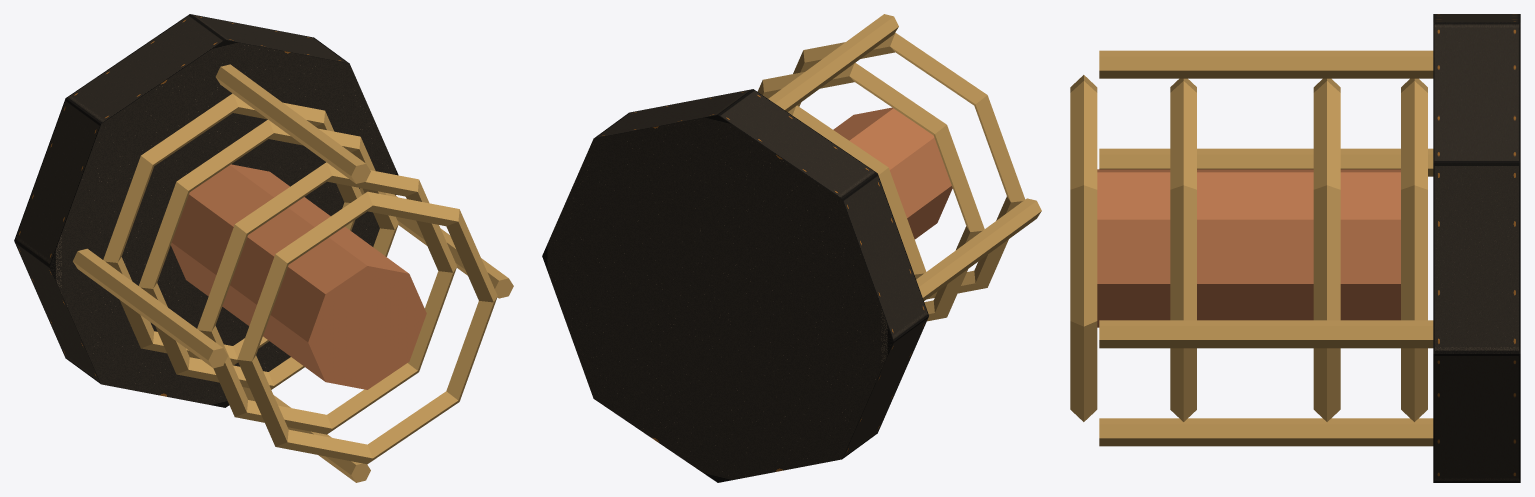
File: reactor-low.glb
The picture shows the model from 3 angles, left to right: view 1: azimuth 30°, elevation 25°; view 2: azimuth 150°, elevation 25°; view 3: azimuth 270°, elevation 25°; orthographic projection. The views are drawn at different scales.
Visible parts, largest first — view 1: reactor-root.003 / Riveted iron.013, reactor-root.003 / Machined brass.013, reactor-root.003 / Copper feed lines.013; view 2: reactor-root.003 / Riveted iron.013, reactor-root.003 / Machined brass.013, reactor-root.003 / Copper feed lines.013; view 3: reactor-root.003 / Machined brass.013, reactor-root.003 / Riveted iron.013, reactor-root.003 / Copper feed lines.013.
Boxes of the visible parts, x1,y1,x2,y2 form: reactor-root.003 / Riveted iron.013: (14, 14, 398, 407); reactor-root.003 / Machined brass.013: (73, 64, 513, 482); reactor-root.003 / Copper feed lines.013: (171, 164, 426, 389); reactor-root.003 / Riveted iron.013: (542, 89, 928, 482); reactor-root.003 / Machined brass.013: (757, 14, 1041, 321); reactor-root.003 / Copper feed lines.013: (833, 107, 952, 239); reactor-root.003 / Machined brass.013: (1070, 50, 1433, 446); reactor-root.003 / Riveted iron.013: (1433, 14, 1520, 482); reactor-root.003 / Copper feed lines.013: (1097, 169, 1400, 327).
Bounding box in the file's own units: 1.6 × 1.6 × 1.44.
Materials: 3 (1 with a texture image).
